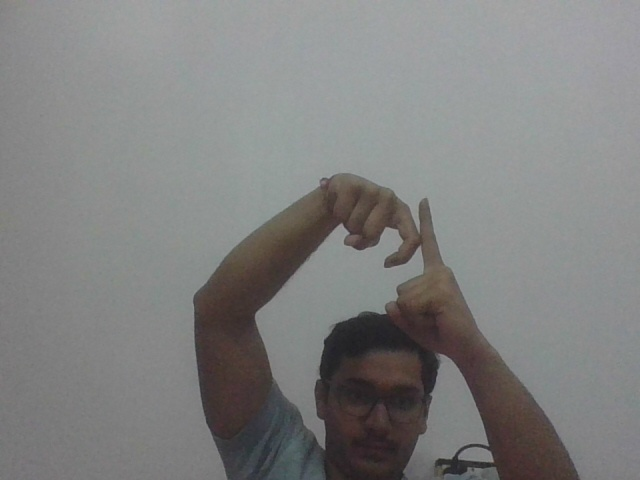K: (321, 163, 470, 313)
